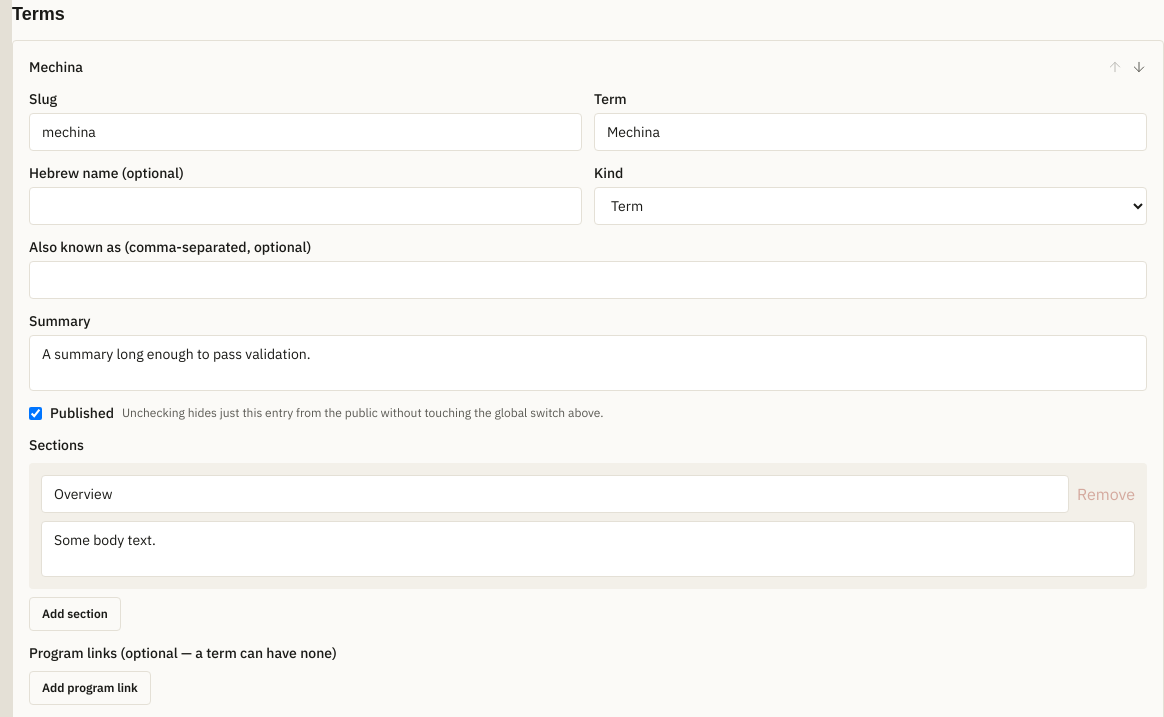
Test case: GlossaryEntriesManager › clicking an entry's Save PATCHes the full entries array (honest-scope contract) and toasts success
# Two entries share the same placeholder summary text -- scope to the first.
Replace the text in the text box showing "A summary long enough to pass validation." with "Mechina updated summary text here.": [588, 363] box [29, 335, 1147, 391]
(page scrolled)
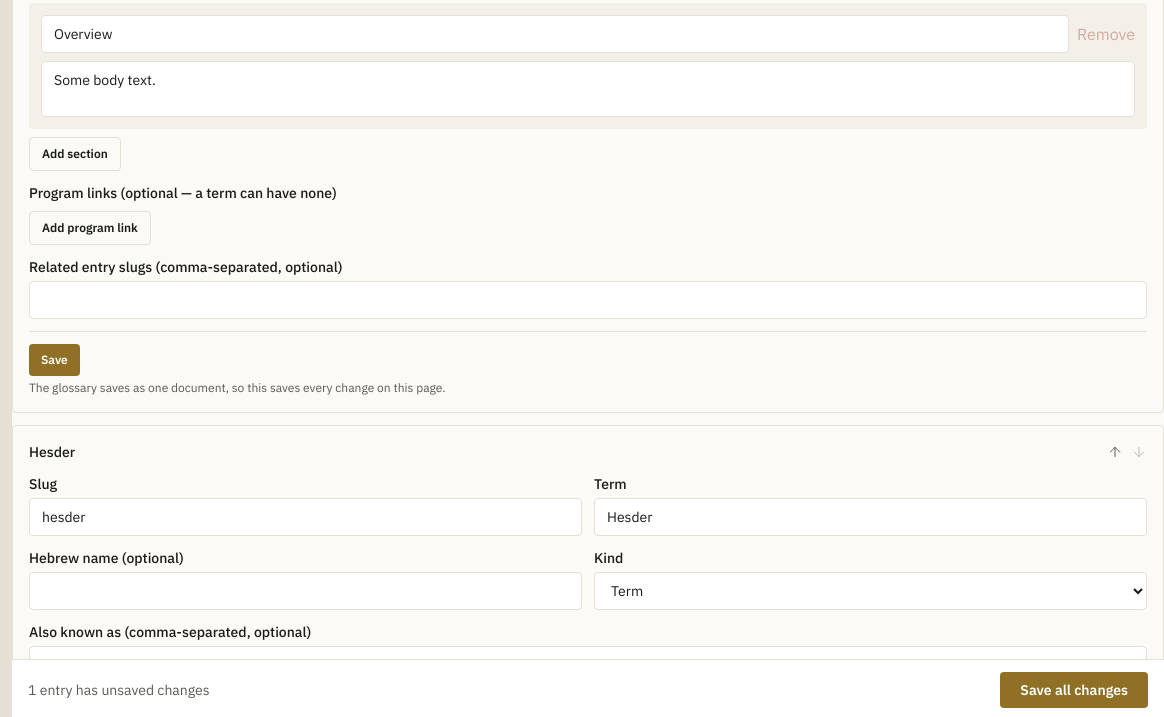
Click the button "Save": [54, 360] box [29, 344, 80, 376]
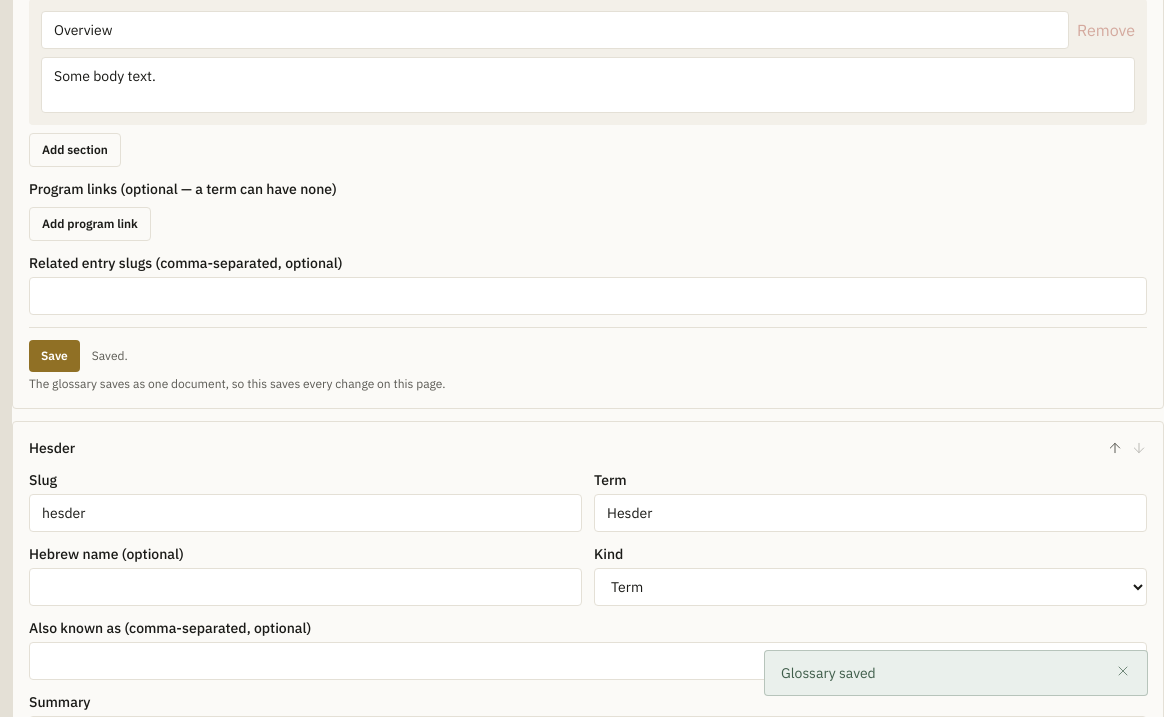
Expected: the text "Glossary saved" is shown, [781, 663, 876, 683]
